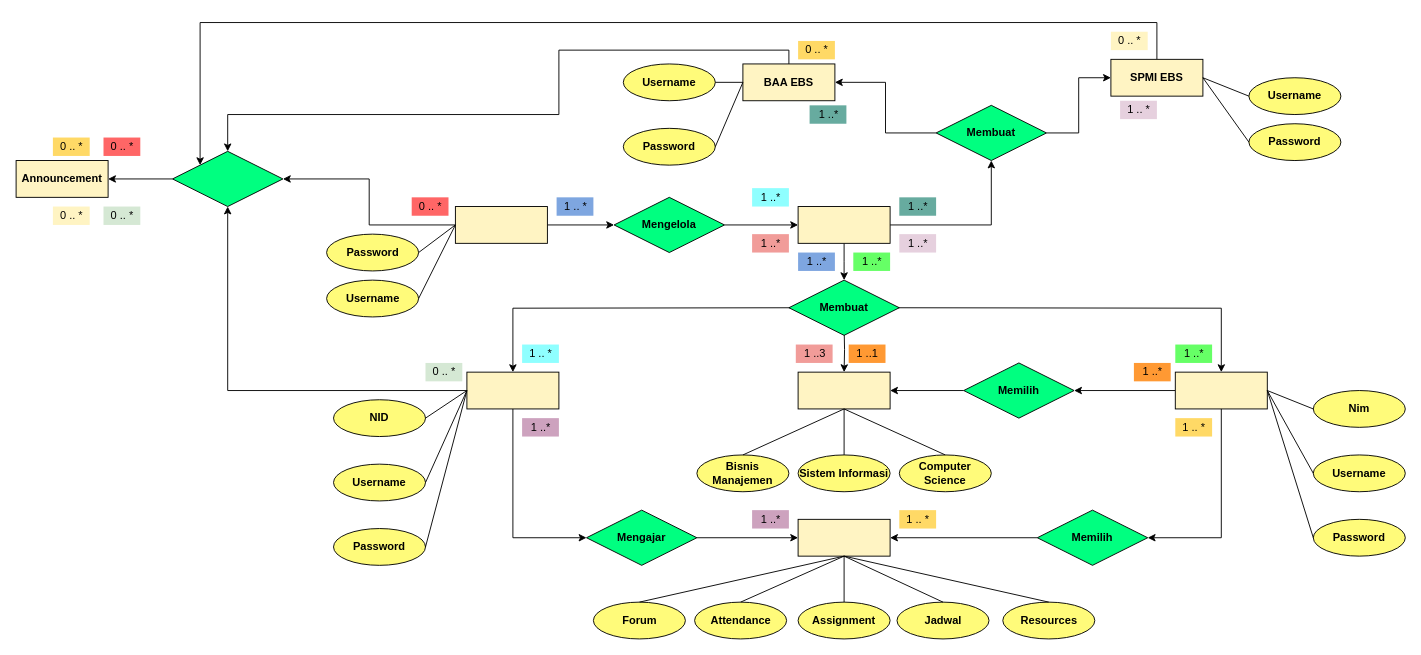
This 1421x655 diagram has some shape labels left out. Each missing label, with the centre of its shape:
"Admin" goes at (x=500, y=224).
"Akun" goes at (x=843, y=224).
"Dosen" goes at (x=512, y=390).
"Mahasiswa" goes at (x=1220, y=390).
"Makul" goes at (x=843, y=537).
"Memberikan" goes at (x=227, y=178).
"Prodi" goes at (x=843, y=390).
